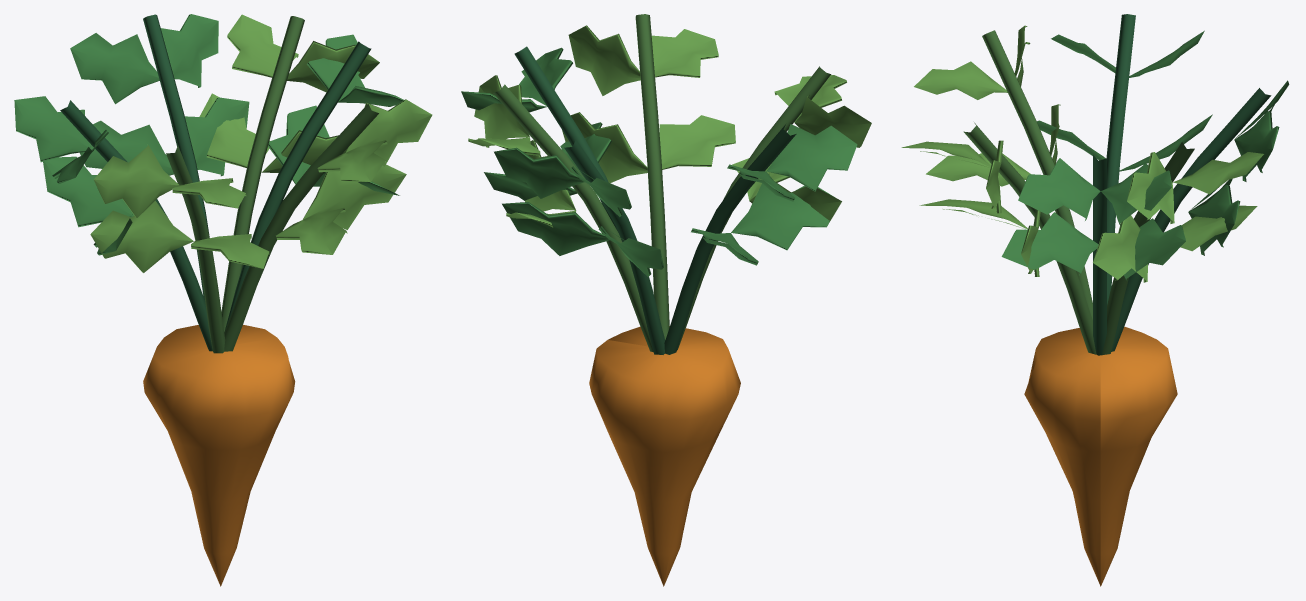
The model's file is zanahoria_3.glb.
3 views of the same model, side by side, from view 1: azimuth 30°, elevation 25°; view 2: azimuth 150°, elevation 25°; view 3: azimuth 270°, elevation 25° (orthographic).
Parts seen in each view (by area): view 1: zanahoria_3_penacho_0; view 2: zanahoria_3_penacho_0; view 3: zanahoria_3_penacho_0.
Boxes of the visible parts, x1,y1,x2,y2 form: zanahoria_3_penacho_0: (14,14,432,586); zanahoria_3_penacho_0: (461,14,871,586); zanahoria_3_penacho_0: (901,14,1289,586).
Size of the model in its own units: 0.4094 by 0.5747 by 0.4019.
